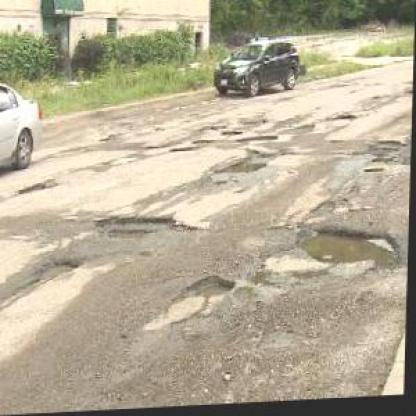pothole: (296, 223, 408, 280), (154, 273, 241, 329), (96, 209, 201, 244), (36, 256, 85, 283), (215, 159, 270, 179)
